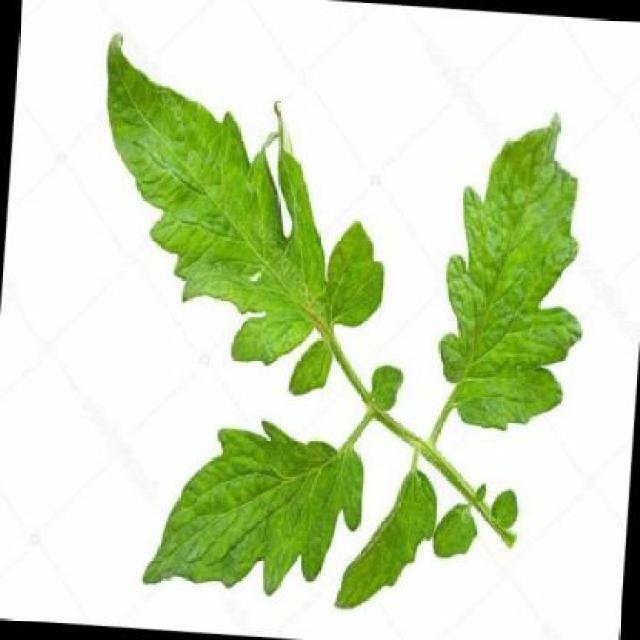Healthy Leaf: (51, 49, 412, 406), (408, 102, 594, 430), (113, 418, 370, 610), (330, 445, 444, 623)
